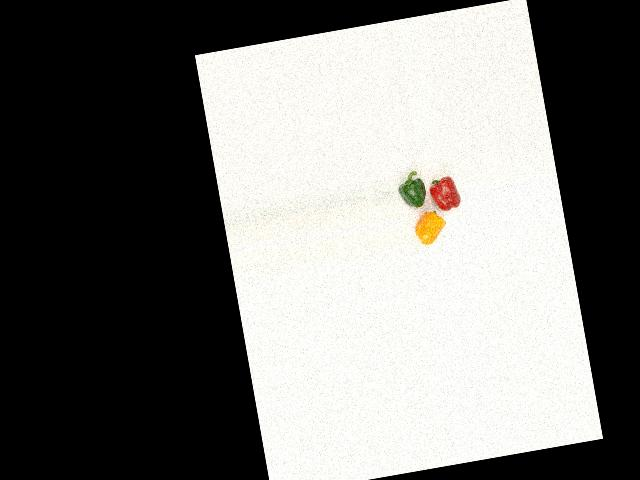bell_pepper: (395, 168, 430, 210)
